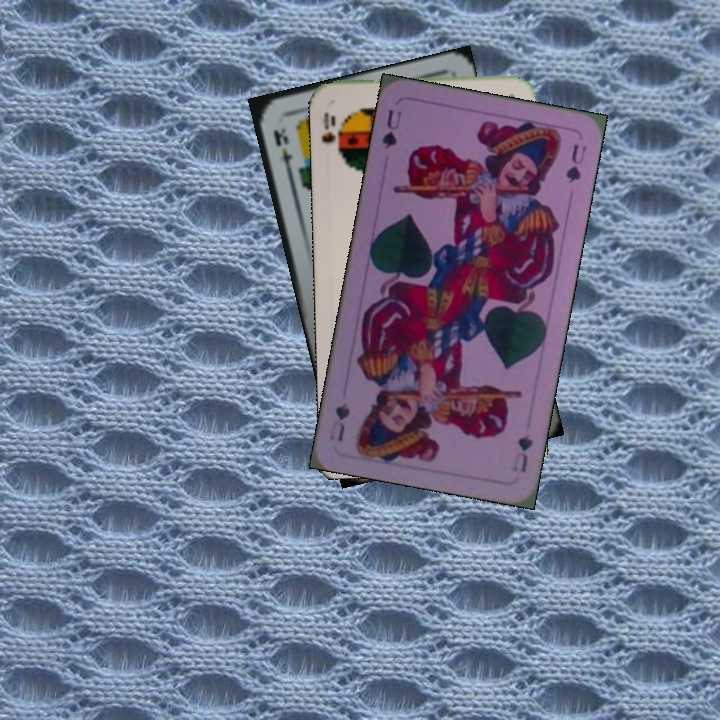EK: (269, 124, 295, 176)
GU: (509, 429, 536, 475), (378, 105, 404, 152)
SO: (318, 108, 338, 145)
